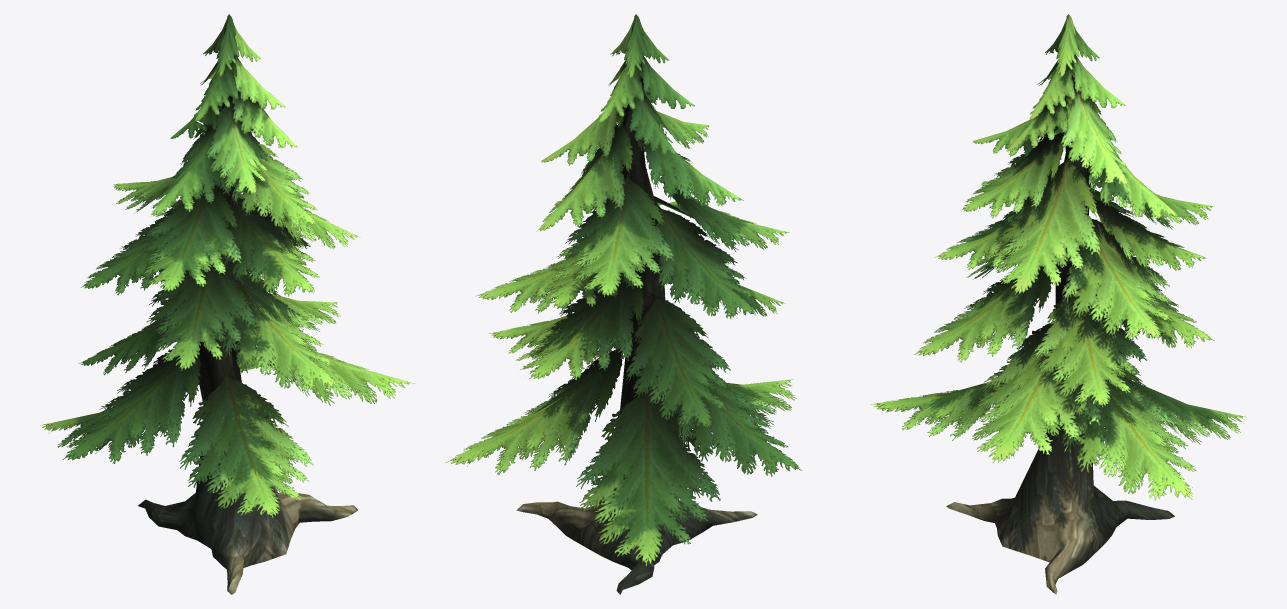
The model's file is Mod_WM_Tree_Pine_01.fbx.
The picture shows the model from 3 angles, left to right: view 1: azimuth 30°, elevation 25°; view 2: azimuth 150°, elevation 25°; view 3: azimuth 270°, elevation 25°; orthographic projection. The views are drawn at different scales.
Visible parts, largest first — view 1: polySurface213; view 2: polySurface213; view 3: polySurface213.
Part boxes in pixels (left/top/right/bottom): polySurface213: left=40, top=14, right=414, bottom=594; polySurface213: left=445, top=14, right=801, bottom=594; polySurface213: left=871, top=14, right=1246, bottom=594.
Size of the model in its own units: 124 by 187 by 134.
Materials: 1 (1 with a texture image).
